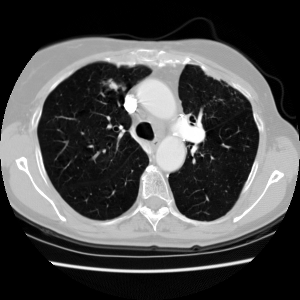nodule: (104, 77, 120, 93)
